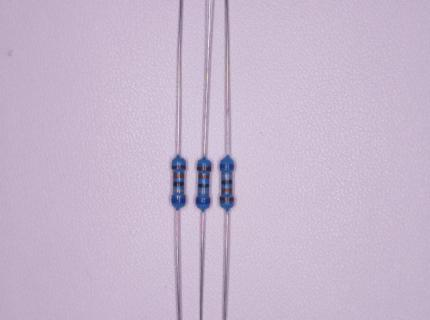Black band: (173, 182, 184, 187), (221, 180, 233, 184), (198, 184, 209, 188)
Blue band: (220, 164, 234, 169), (196, 199, 210, 204), (172, 198, 185, 203)
Brown band: (197, 166, 211, 171), (220, 197, 234, 202), (172, 165, 186, 169)
Grey band: (198, 190, 209, 194), (173, 189, 183, 193), (221, 174, 232, 177)
Orange band: (222, 188, 232, 194), (173, 173, 184, 178), (198, 174, 209, 178)
